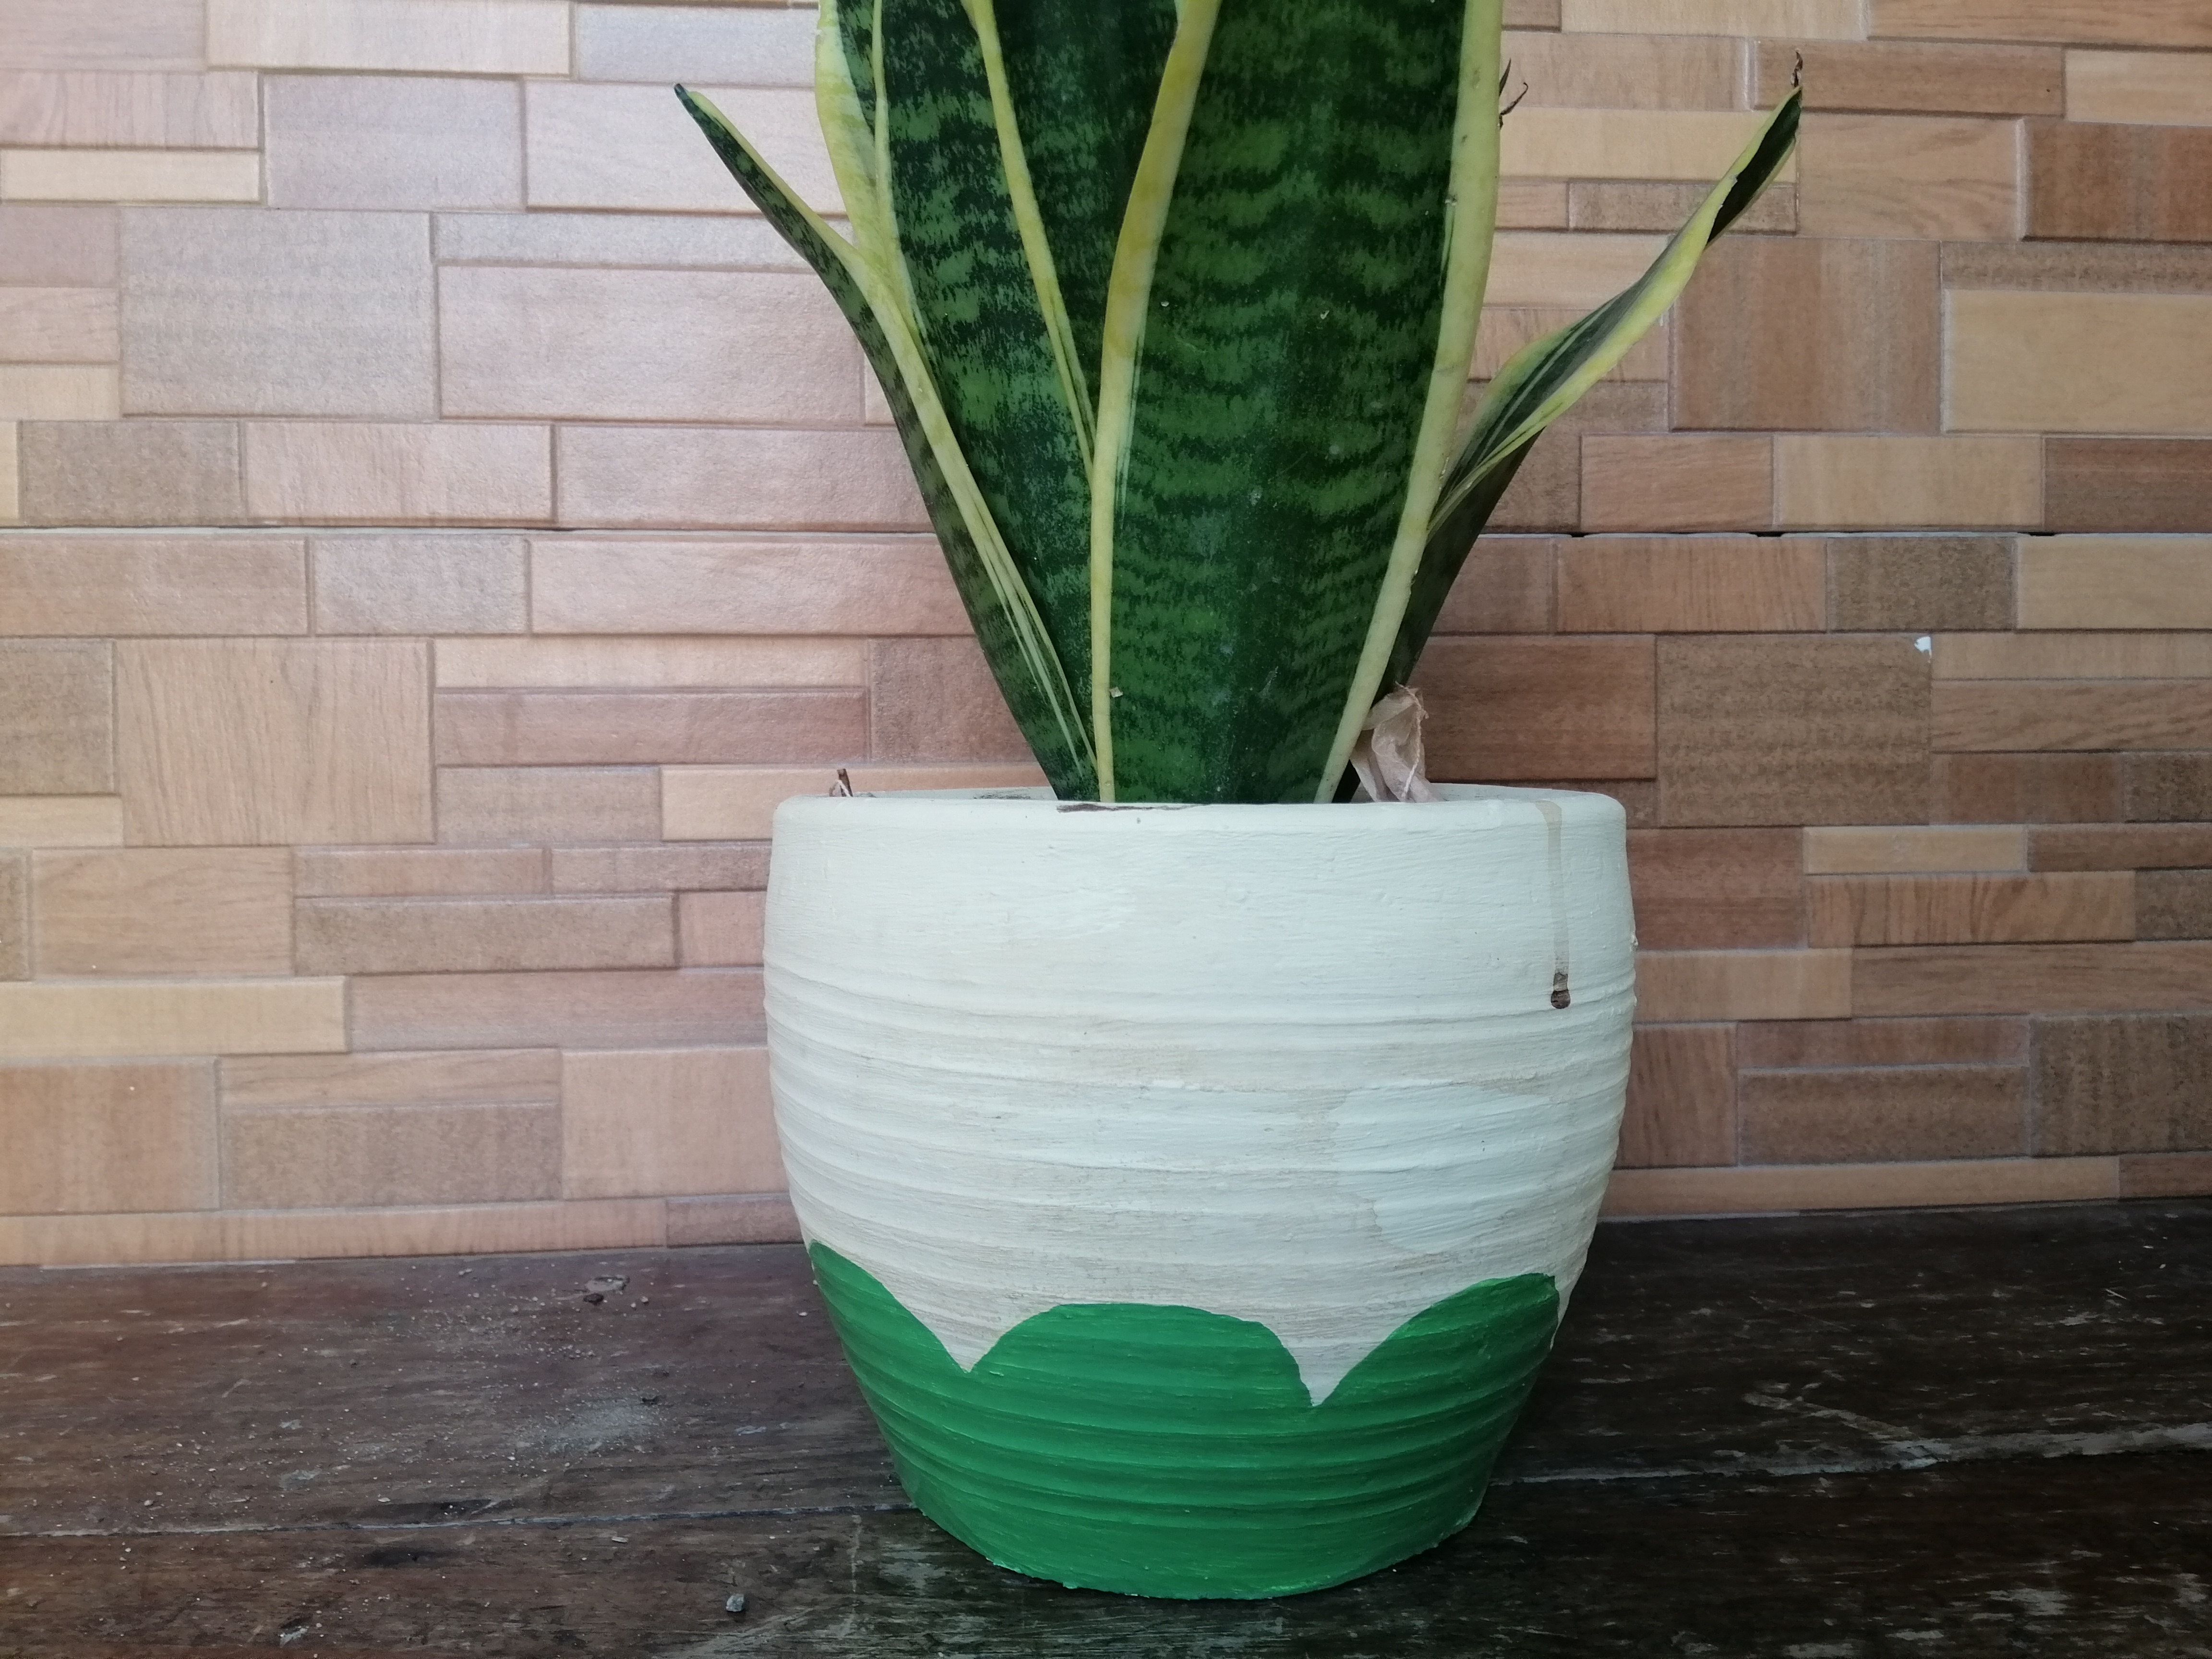plant: (676, 3, 1806, 1600)
